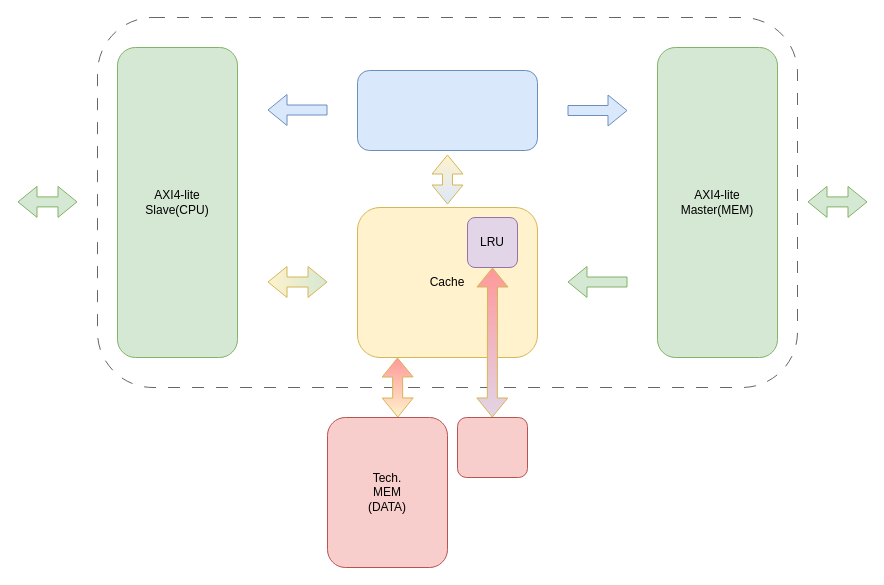
Some shapes in this 884 by 585 pixel diagram are drawn without their labels. Each missing label, with the centre of its shape:
Tech. MEM (MATRIX): pixel 492 447
Write-back buffer: pixel 447 110
